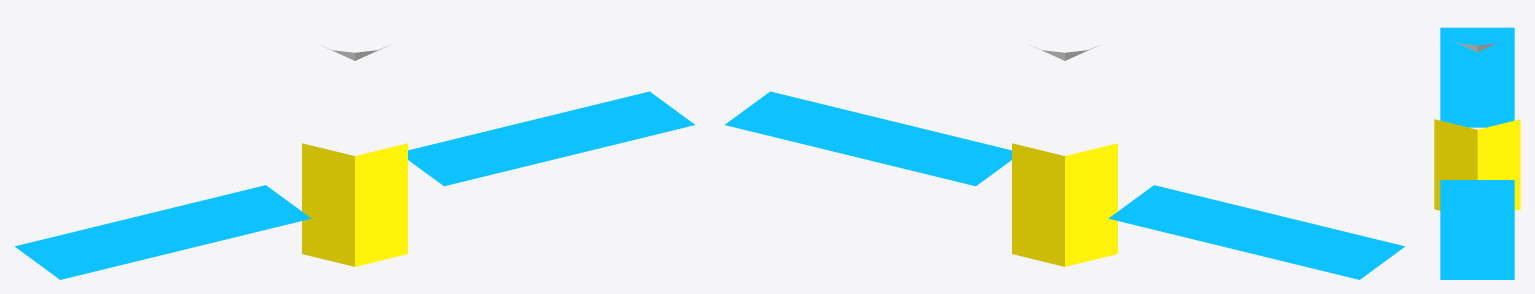
Rendered from satellite.glb.
The picture shows the model from 3 angles, left to right: view 1: azimuth 30°, elevation 25°; view 2: azimuth 150°, elevation 25°; view 3: azimuth 270°, elevation 25°; orthographic projection. The views are drawn at different scales.
Visible parts, largest first — view 1: Solar_Panel, Bus; view 2: Solar_Panel, Bus; view 3: Solar_Panel, Bus, Antenna.
Boxes of the visible parts, bbox=[...] form: Solar_Panel: bbox=[15, 91, 694, 279]; Bus: bbox=[302, 143, 407, 266]; Solar_Panel: bbox=[725, 91, 1404, 279]; Bus: bbox=[1012, 143, 1117, 266]; Solar_Panel: bbox=[1440, 27, 1514, 279]; Bus: bbox=[1434, 119, 1520, 210]; Antenna: bbox=[1451, 40, 1503, 52].
Bounding box in the file's own units: 2.4 × 0.75 × 0.3464.
